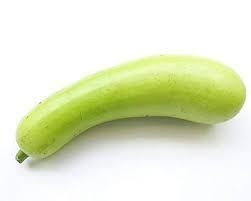bottle gourd: (14, 51, 246, 163)
